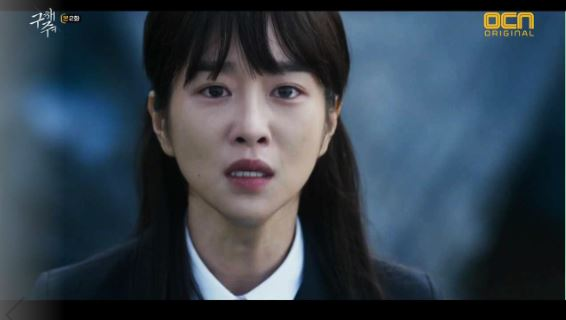neutral: (178, 43, 317, 212)
